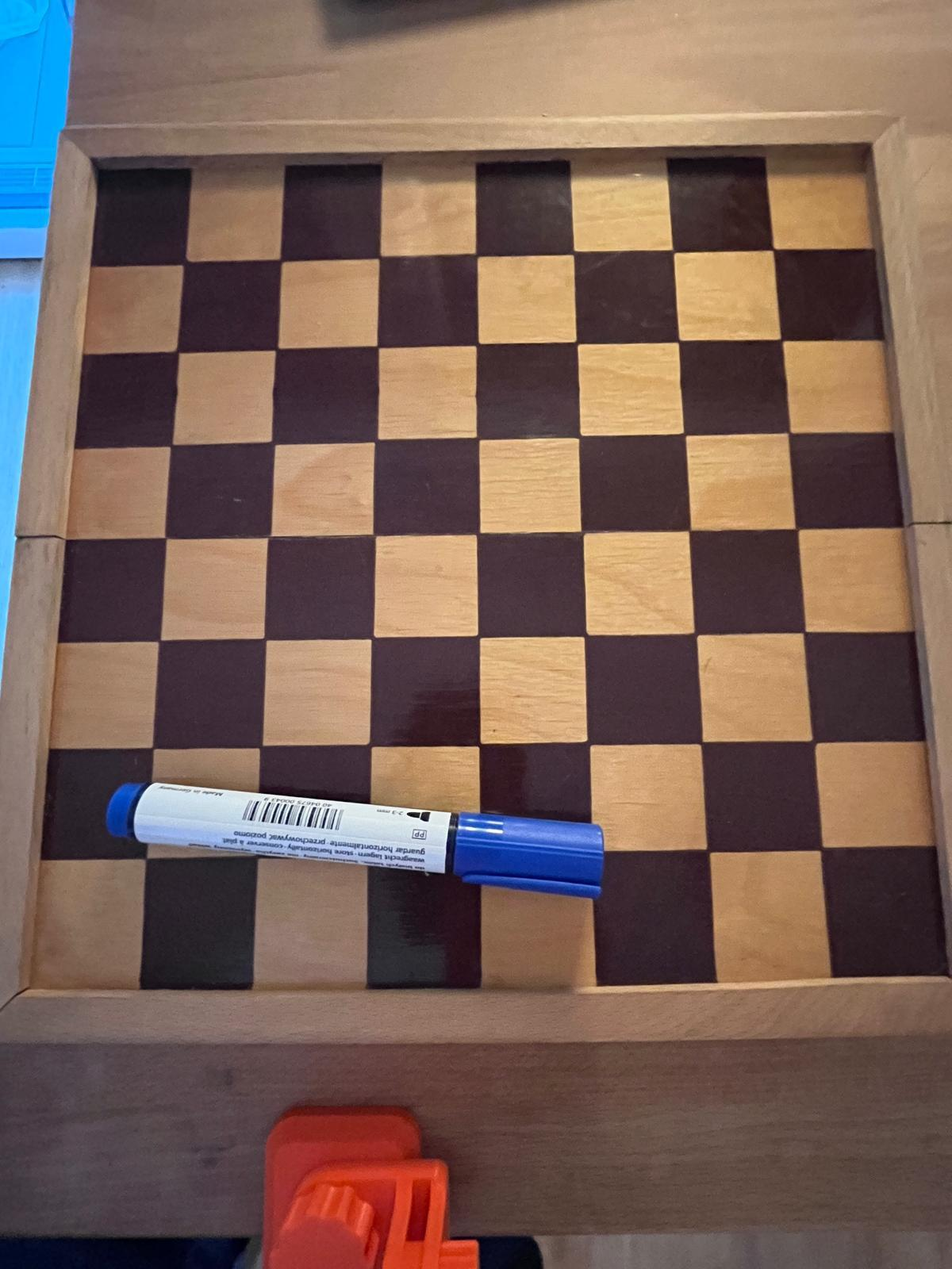marker: (108, 766, 603, 904)
